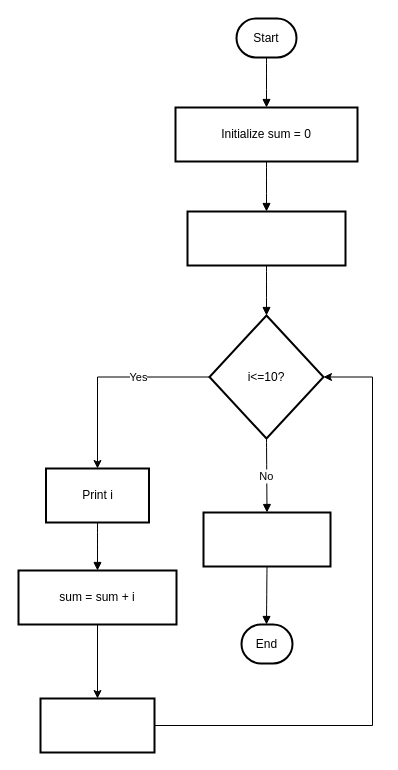
Image size: 398x770. Some labels were removed from this diagram. Here are the shapes that lost their labels. From the top down, the centre of each, then its label:
[266,238]: Initialize i = 1
[266,539]: Print sum
[97,725]: i = i + 1
